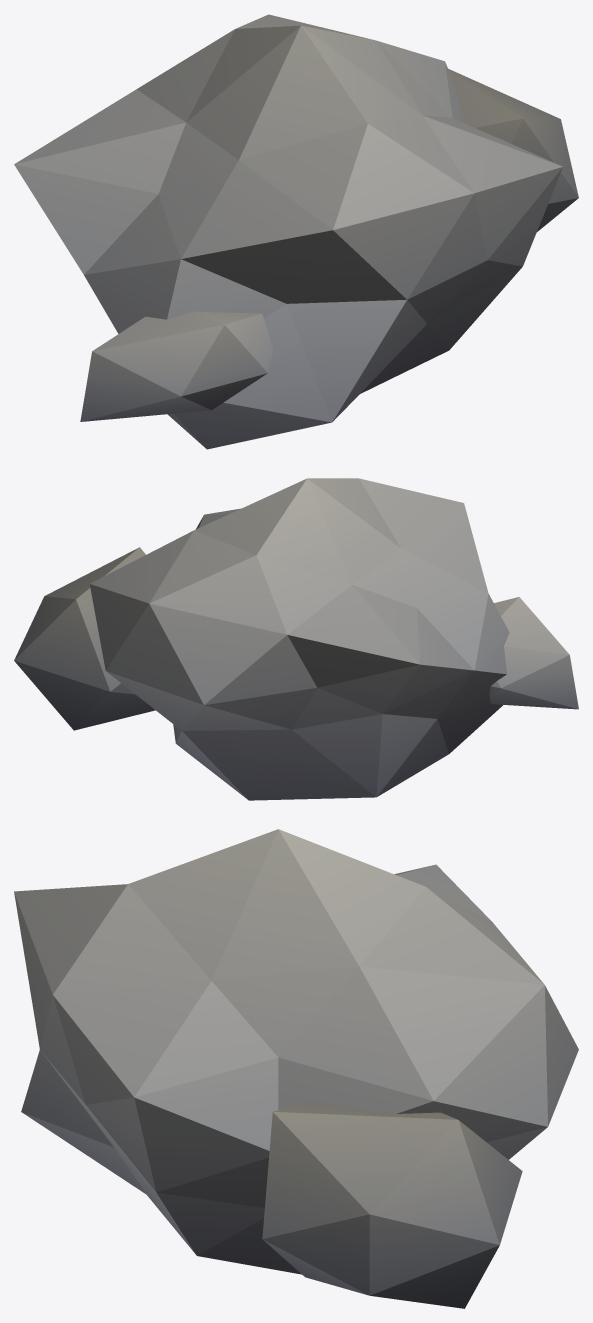
File: rock_b.glb
3 renders of one model, top to bottom at view 1: azimuth 30°, elevation 25°; view 2: azimuth 150°, elevation 25°; view 3: azimuth 270°, elevation 25°, orthographic. The views are drawn at different scales.
Parts seen in each view (by area): view 1: rock_b; view 2: rock_b; view 3: rock_b.
Part boxes in pixels (x1,y1,x2,y2): rock_b: (14, 14, 578, 449); rock_b: (14, 478, 578, 800); rock_b: (14, 829, 578, 1308).
Bounding box in the file's own units: 6.68 × 3.94 × 4.96.
Materials: 1 (1 with a texture image).
